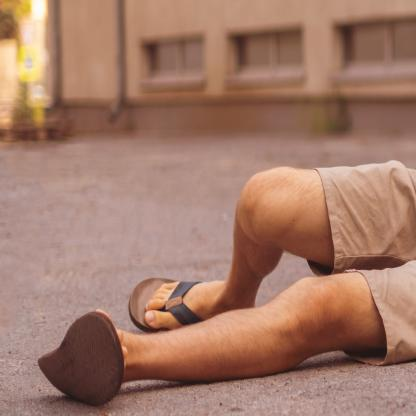leg: (40, 269, 380, 408), (119, 160, 328, 328)
